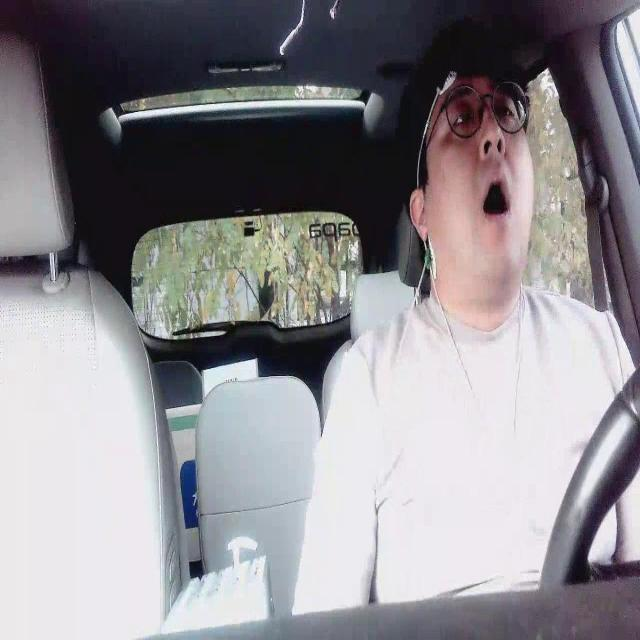Yawning: (479, 168, 512, 223)
